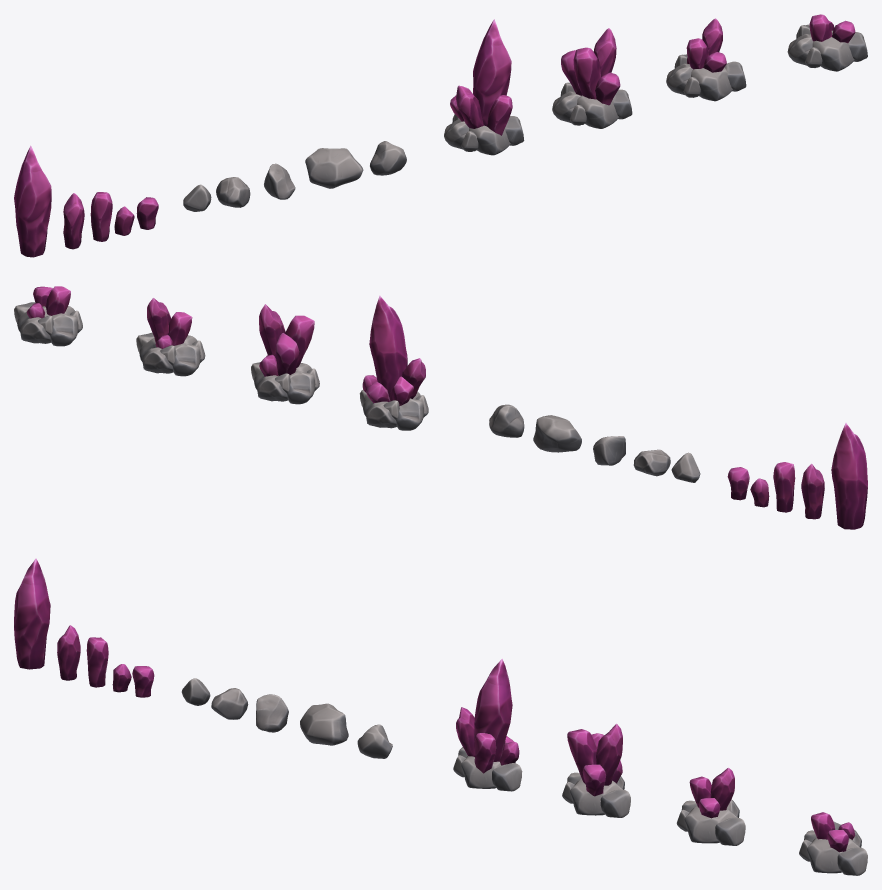
The model's file is Gems.fbx.
3 renders of one model, top to bottom at view 1: azimuth 30°, elevation 25°; view 2: azimuth 150°, elevation 25°; view 3: azimuth 330°, elevation 25°, orthographic.
Parts seen in each view (by area): view 1: Cube_Retopology, Cube_Retopology.001, rock.004_Retopology.001, Cube.001_Retopology.003, Cube.002_Retopology.001, rock.004_Retopology.005, rock.004_Retopology.004, rock.005_Retopology.001, Cube.001_Retopology, rock.004_Retopology.003, Retopology, rock.003_Retopology (+14 smaller); view 2: Cube_Retopology, Cube_Retopology.001, rock.004_Retopology.001, Cube.002_Retopology.001, Cube.001_Retopology, rock.005_Retopology.001, Cube.002_Retopology.003, rock.003_Retopology, Cube.003_Retopology.004, Cube.001_Retopology.003, Retopology, rock.005_Retopology.005 (+13 smaller); view 3: Cube_Retopology, Cube_Retopology.001, rock.004_Retopology.001, rock.004_Retopology.004, rock.003_Retopology, Cube.002_Retopology.003, Cube.002_Retopology.001, rock.004_Retopology.005, Cube.001_Retopology, Cube.001_Retopology.003, rock.004_Retopology.003, rock.005_Retopology.001 (+10 smaller).
Part boxes in pixels (left/top/right/bottom): Cube_Retopology: left=14, top=145, right=51, bottom=257; Cube_Retopology.001: left=473, top=19, right=511, bottom=126; rock.004_Retopology.001: left=305, top=148, right=363, bottom=188; Cube.001_Retopology.003: left=573, top=47, right=600, bottom=99; Cube.002_Retopology.001: left=63, top=193, right=84, bottom=249; rock.004_Retopology.005: left=812, top=30, right=854, bottom=71; rock.004_Retopology.004: left=691, top=67, right=732, bottom=101; rock.005_Retopology.001: left=370, top=141, right=406, bottom=175; Cube.001_Retopology: left=90, top=192, right=112, bottom=241; rock.004_Retopology.003: left=577, top=95, right=618, bottom=128; Retopology: left=216, top=177, right=250, bottom=207; rock.003_Retopology: left=264, top=163, right=295, bottom=199; Cube_Retopology: left=831, top=423, right=867, bottom=529; Cube_Retopology.001: left=369, top=295, right=407, bottom=396; rock.004_Retopology.001: left=533, top=415, right=581, bottom=452; Cube.002_Retopology.001: left=801, top=463, right=824, bottom=519; Cube.001_Retopology: left=773, top=462, right=795, bottom=512; rock.005_Retopology.001: left=489, top=404, right=524, bottom=437; Cube.002_Retopology.003: left=259, top=304, right=285, bottom=356; rock.003_Retopology: left=593, top=436, right=625, bottom=465; Cube.003_Retopology.004: left=275, top=333, right=299, bottom=375; Cube.001_Retopology.003: left=285, top=315, right=314, bottom=367; Retopology: left=633, top=449, right=670, bottom=476; rock.005_Retopology.005: left=50, top=313, right=78, bottom=346; Cube_Retopology: left=14, top=558, right=50, bottom=669; Cube_Retopology.001: left=474, top=659, right=512, bottom=761; rock.004_Retopology.001: left=300, top=703, right=348, bottom=745; rock.004_Retopology.004: left=684, top=806, right=737, bottom=843; rock.003_Retopology: left=256, top=694, right=288, bottom=732; Cube.002_Retopology.003: left=596, top=723, right=622, bottom=785; Cube.002_Retopology.001: left=57, top=625, right=80, bottom=680; rock.004_Retopology.005: left=807, top=837, right=860, bottom=873; Cube.001_Retopology: left=86, top=637, right=108, bottom=687; Cube.001_Retopology.003: left=567, top=729, right=596, bottom=783; rock.004_Retopology.003: left=570, top=778, right=622, bottom=815; rock.005_Retopology.001: left=357, top=724, right=392, bottom=758.
Size of the model in its own units: 31.6 by 4.37 by 2.25.
Materials: 1 (1 with a texture image).
